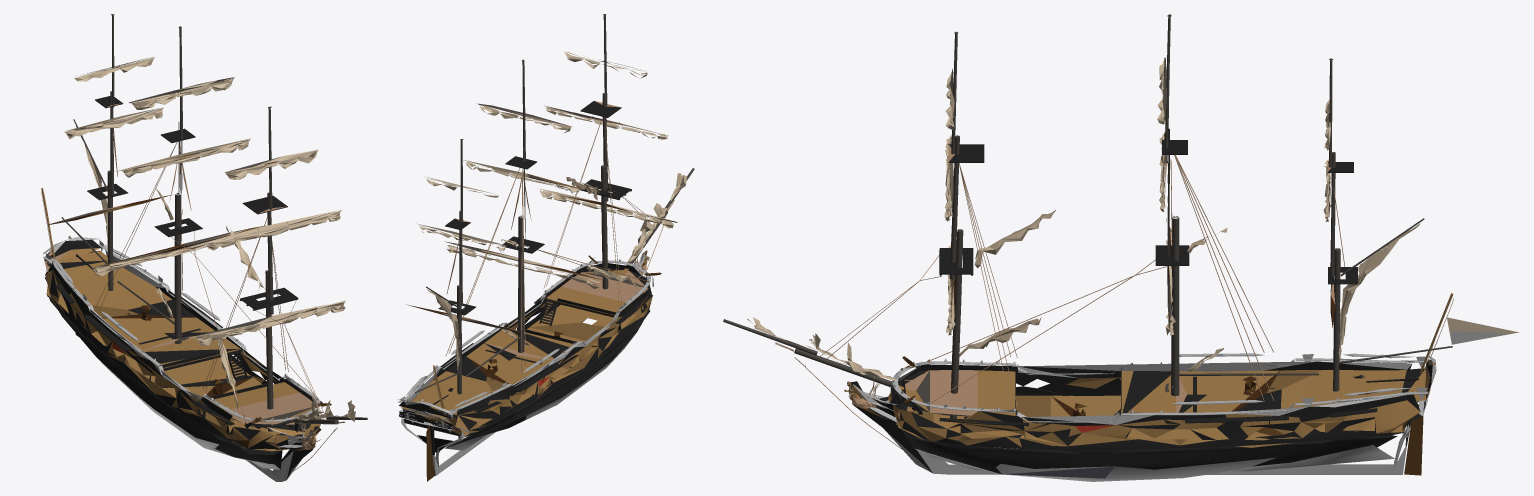
Rendered from frigate.glb.
3 renders of one model, left to right at view 1: azimuth 30°, elevation 25°; view 2: azimuth 150°, elevation 25°; view 3: azimuth 270°, elevation 25°, orthographic. The views are drawn at different scales.
Visible parts, largest first — view 1: c1, c2, c3, c7, c11, c0, c5, c9, c6, c10; view 2: c1, c2, c7, c3, c0, c5, c11, c6, c9, c10; view 3: c1, c2, c0, c7, c5, c3, c11, c6, c10, c9, c8.
Part boxes in pixels (x1=…): c1: x1=44, y1=96, x2=322, y2=479; c2: x1=41, y1=154, x2=344, y2=453; c3: x1=41, y1=58, x2=355, y2=446; c7: x1=53, y1=14, x2=367, y2=441; c11: x1=64, y1=57, x2=354, y2=421; c0: x1=43, y1=235, x2=320, y2=481; c5: x1=41, y1=69, x2=345, y2=472; c9: x1=48, y1=153, x2=330, y2=424; c6: x1=42, y1=188, x2=319, y2=450; c10: x1=72, y1=91, x2=334, y2=448; c1: x1=399, y1=101, x2=653, y2=455; c2: x1=401, y1=142, x2=673, y2=436; c7: x1=411, y1=14, x2=694, y2=438; c3: x1=416, y1=51, x2=687, y2=371; c0: x1=398, y1=253, x2=650, y2=475; c5: x1=433, y1=66, x2=674, y2=413; c11: x1=426, y1=57, x2=685, y2=368; c6: x1=432, y1=174, x2=649, y2=432; c9: x1=407, y1=195, x2=677, y2=401; c10: x1=426, y1=249, x2=660, y2=481; c1: x1=850, y1=140, x2=1432, y2=474; c2: x1=779, y1=120, x2=1453, y2=448; c0: x1=853, y1=331, x2=1509, y2=481; c7: x1=723, y1=14, x2=1452, y2=418; c5: x1=775, y1=71, x2=1453, y2=449; c3: x1=753, y1=59, x2=1447, y2=408; c11: x1=747, y1=70, x2=1519, y2=377; c6: x1=847, y1=155, x2=1452, y2=445; c10: x1=848, y1=133, x2=1423, y2=475; c9: x1=851, y1=227, x2=1378, y2=427; c8: x1=896, y1=353, x2=1404, y2=478.
Size of the model in its own units: 14.74 by 30.58 by 47.84.
